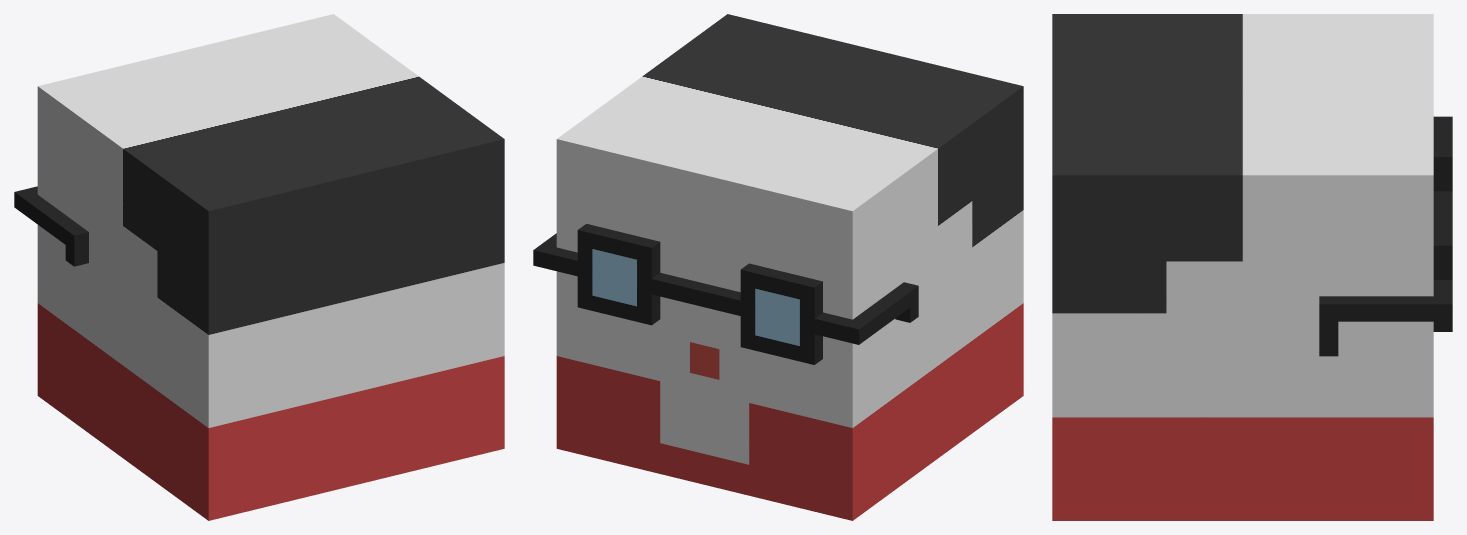
The model's file is Char12.fbx.
3 renders of one model, left to right at view 1: azimuth 30°, elevation 25°; view 2: azimuth 150°, elevation 25°; view 3: azimuth 270°, elevation 25°, orthographic. The views are drawn at different scales.
Parts seen in each view (by area): view 1: Box; view 2: Box; view 3: Box.
Boxes of the visible parts, x1=… form: Box: x1=14, y1=14, x2=504, y2=520; Box: x1=533, y1=14, x2=1023, y2=520; Box: x1=1052, y1=14, x2=1452, y2=520.
Bounding box in the file's own units: 22 × 20 × 21.
